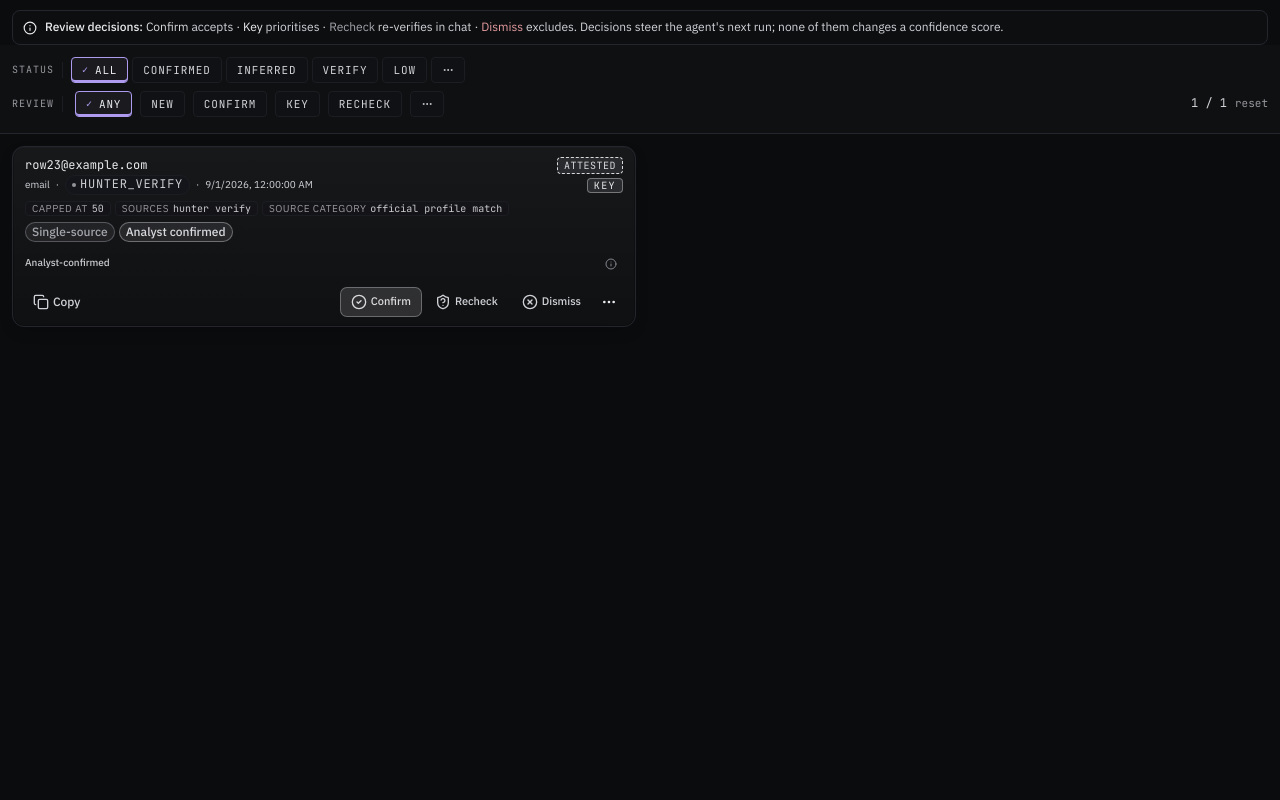
it: Evidence table tile — the score slot › an analyst-confirmed tile shows 'Analyst-confirmed' and the machine score stays in the ⓘ popover
This screenshot has width=1280, height=800.
Check: the picture named "Analyst-confirmed (machine score 50)" is shown, box [25,256,110,269]
Check: the element with class "evidence-tile" does not show "/100"
Click the button named "Why is this".
click(611, 264)  # box [599,252,623,276]
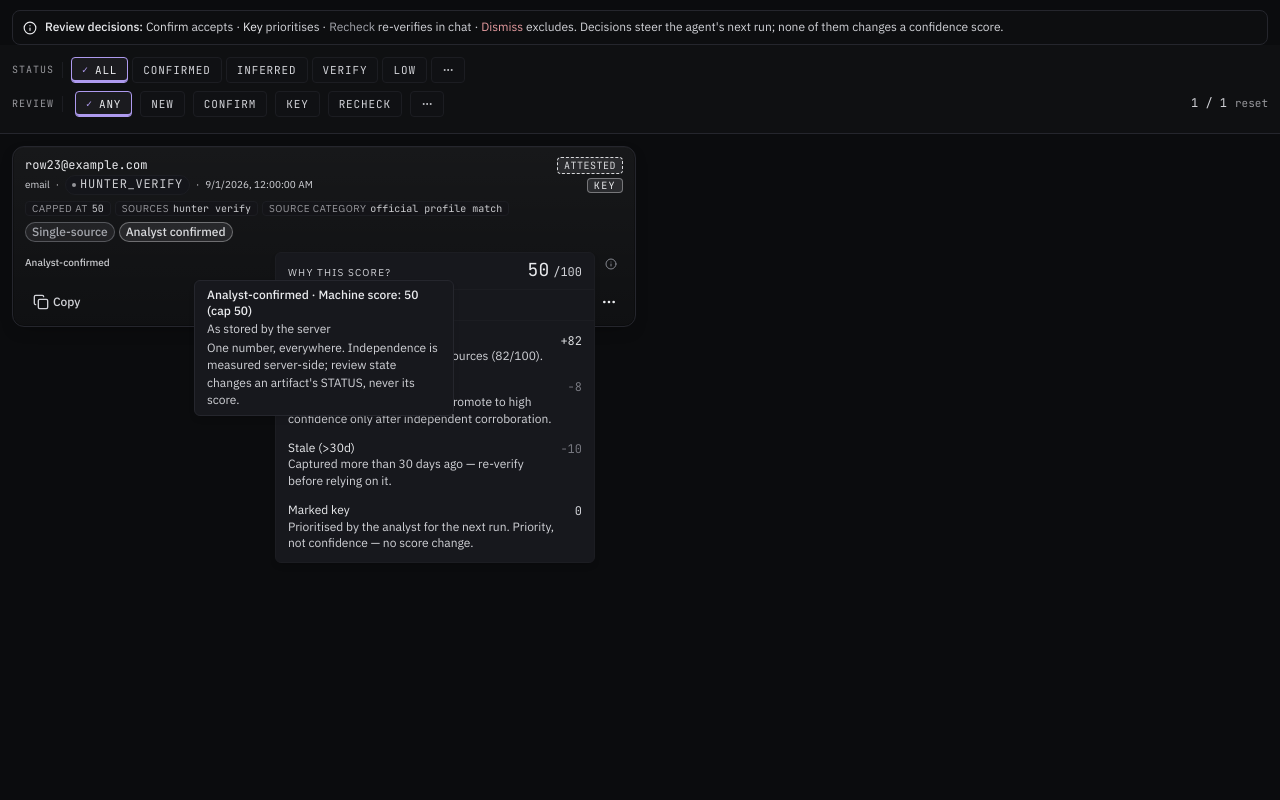
Check: the text "Why this score?" is shown, box [288,267,391,278]
Check: the text "Machine score: 50 (cap 50)" is shown, box [276,290,594,321]
